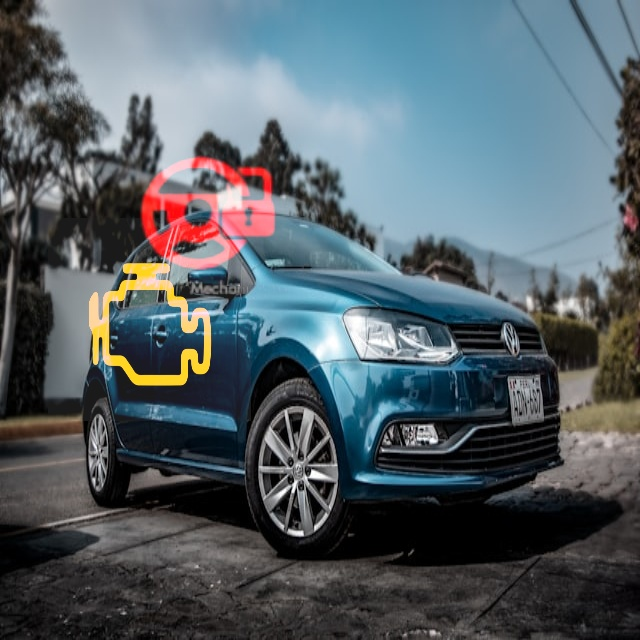symbol: (48, 218, 251, 421), (121, 126, 298, 303)
